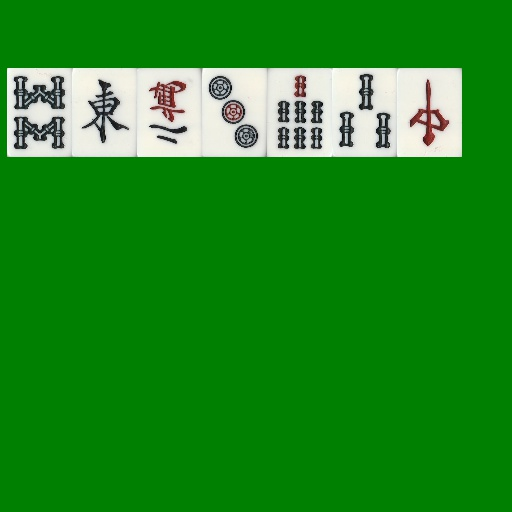2m: (137, 68, 202, 157)
3p: (202, 68, 267, 157)
3s: (332, 68, 397, 157)
7s: (267, 68, 332, 157)
8s: (7, 68, 72, 157)
east: (72, 68, 137, 157)
tyun: (397, 68, 462, 157)
